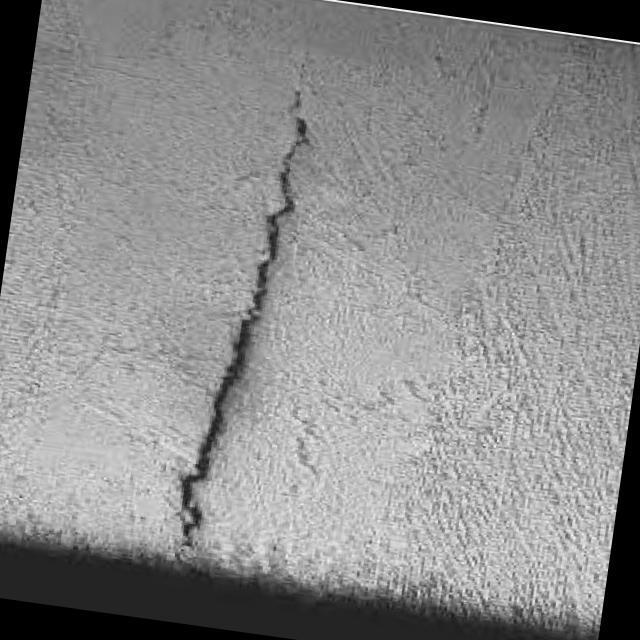defect: (168, 106, 318, 554)
